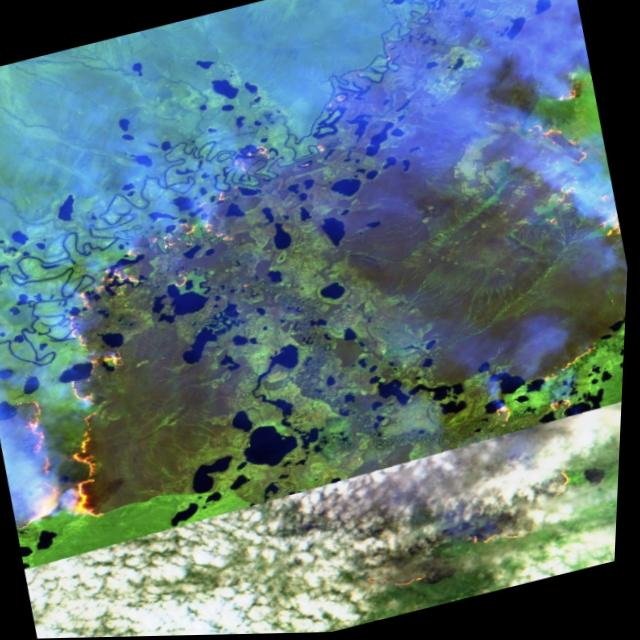fire: (0, 135, 349, 539), (410, 68, 637, 439)
